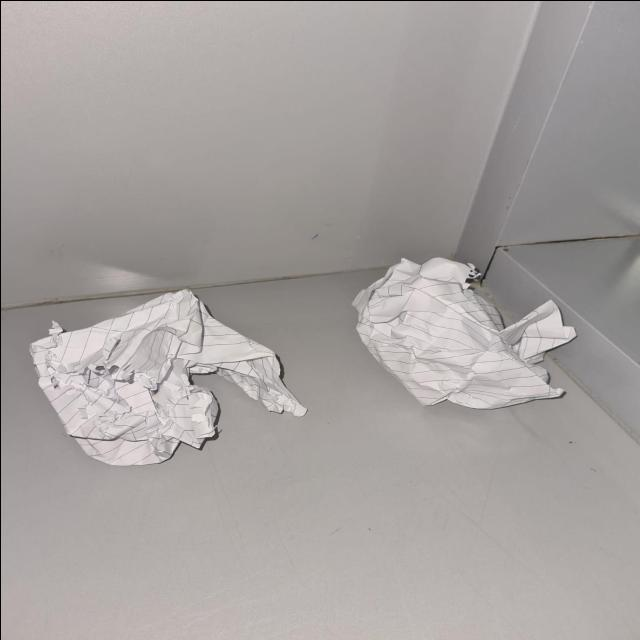kertas: (27, 292, 308, 470), (338, 249, 586, 418)
